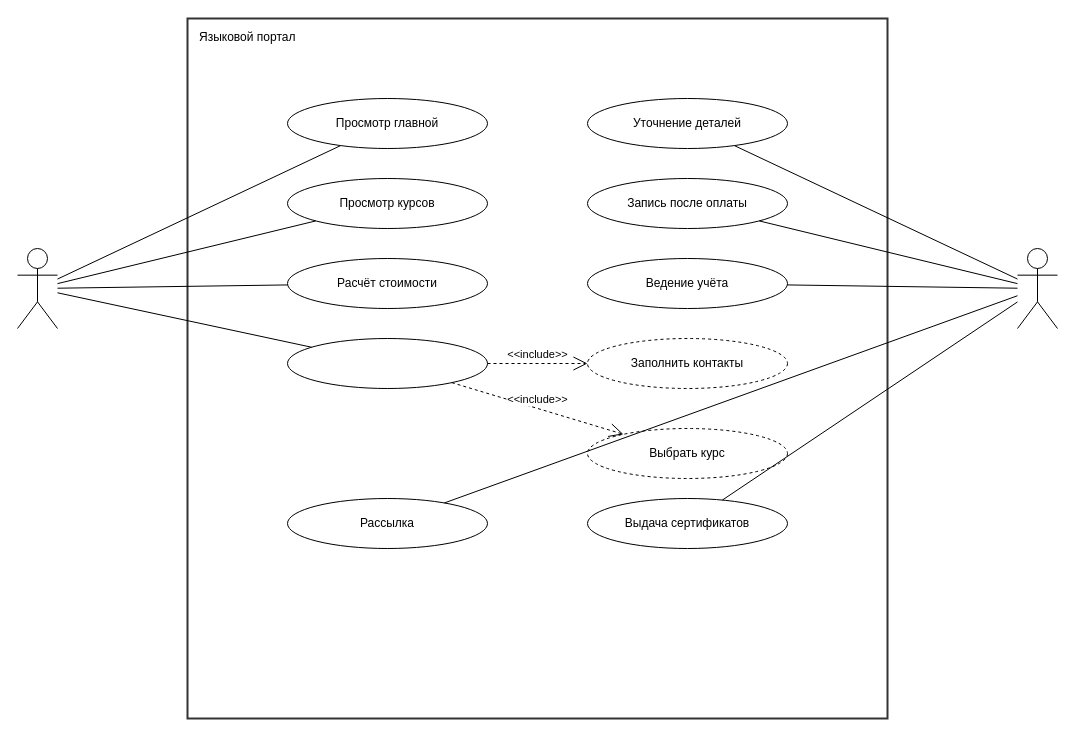
Some shapes in this 1084 by 736 pixel diagram are drawn without their labels. Here are the shapes that lost their labels. From the top down, the centre of each, then its label:
the point at 37,288: Клиент
the point at 1037,288: Менеджер
the point at 387,363: Запись на урок
